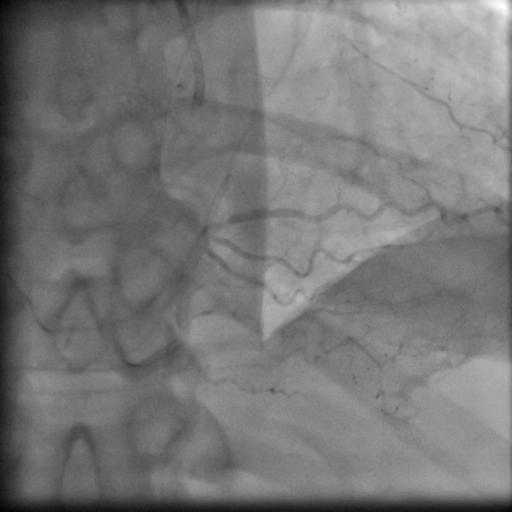Stenosis: (209, 215, 237, 231)
